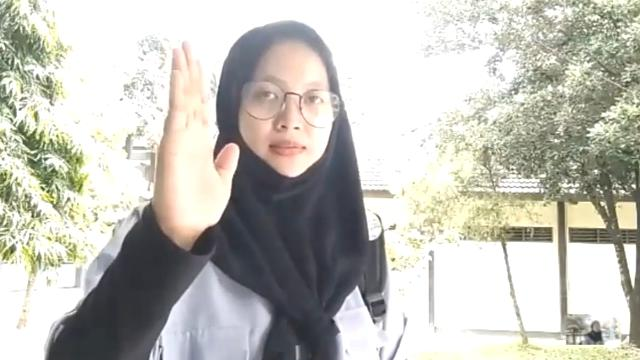B: (152, 40, 238, 226)
